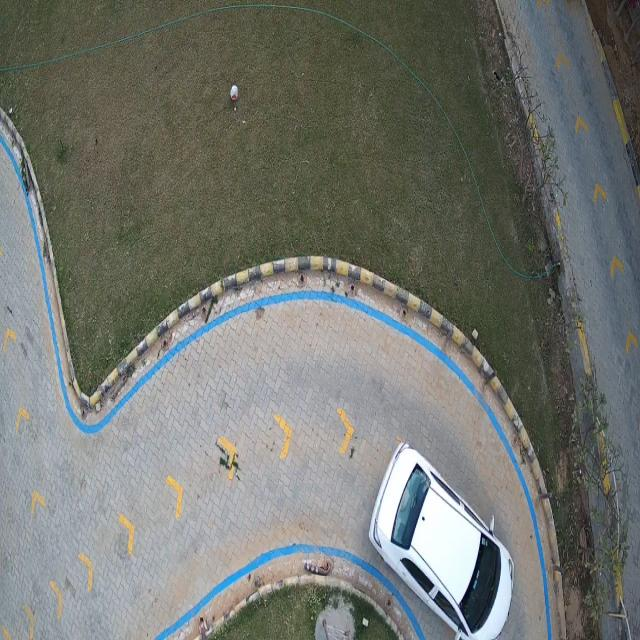car: (369, 444, 514, 639)
